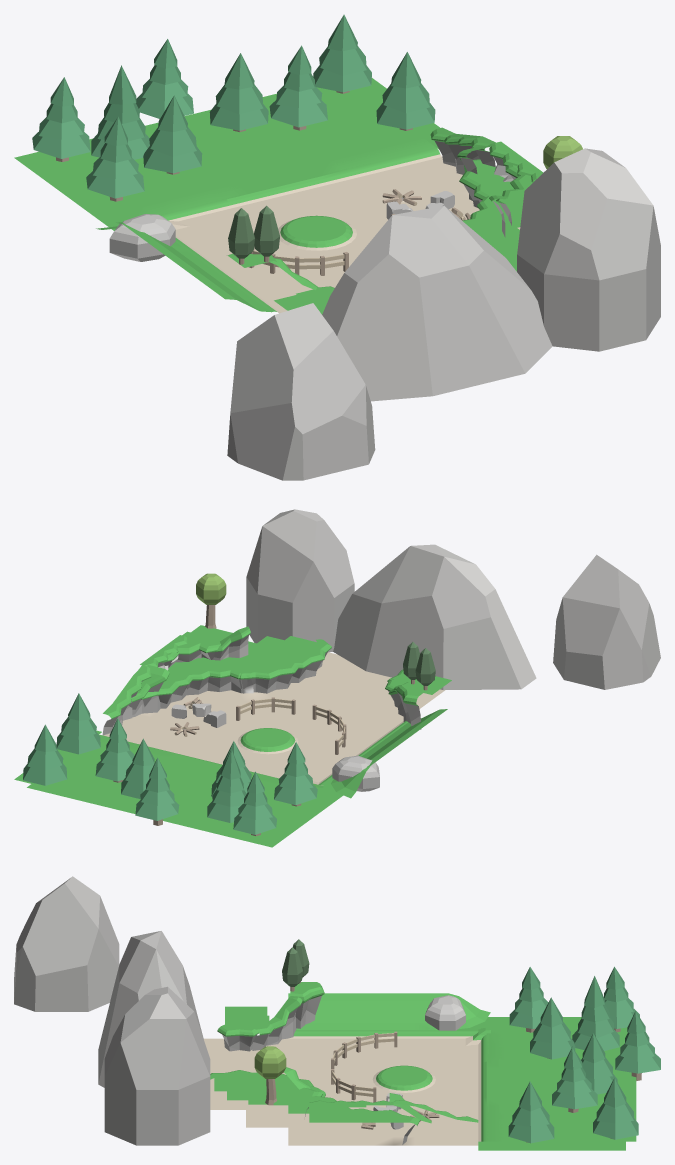
Rendered from juggle_terrain.glb.
The picture shows the model from 3 angles, top to bottom: view 1: azimuth 30°, elevation 25°; view 2: azimuth 150°, elevation 25°; view 3: azimuth 270°, elevation 25°; orthographic projection. The views are drawn at different scales.
Visible parts, largest first — view 1: juggle_terrain; view 2: juggle_terrain; view 3: juggle_terrain.
Part boxes in pixels (box(x1,y1,x2,y2)): juggle_terrain: box(14, 14, 660, 480); juggle_terrain: box(14, 509, 660, 847); juggle_terrain: box(14, 876, 660, 1150).
Bounding box in the file's own units: 21.14 × 7.07 × 30.66.
